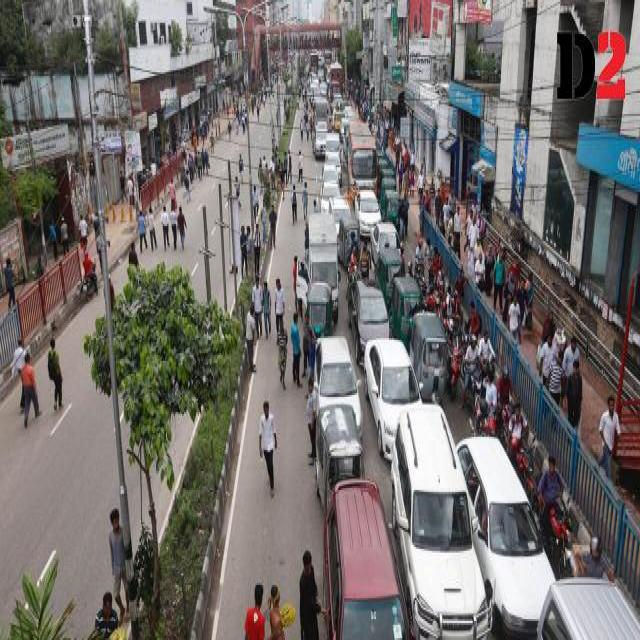Bike: (276, 330, 288, 390)
MiniBus: (389, 401, 493, 638)
